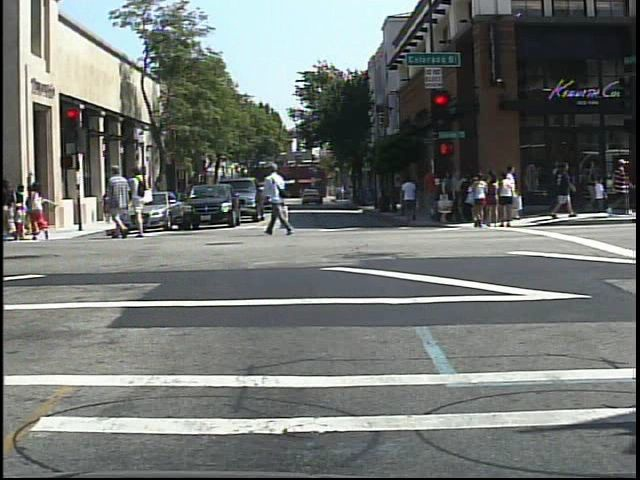person: (261, 159, 295, 238), (602, 157, 636, 221), (106, 162, 130, 239), (27, 175, 53, 243), (131, 166, 155, 239), (3, 173, 20, 245)
